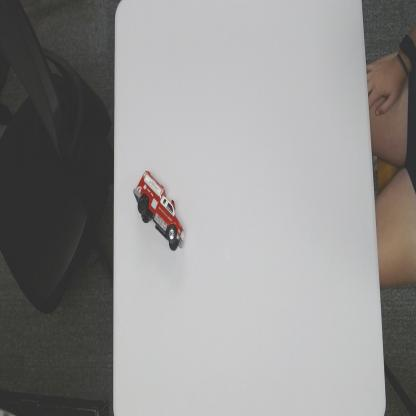Firetruck: (133, 168, 185, 252)
